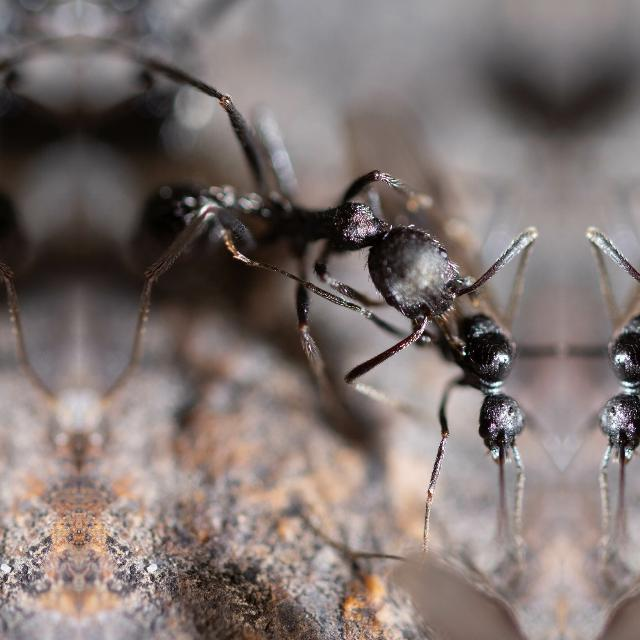Apheanogaster: (89, 83, 552, 431), (342, 200, 562, 486), (560, 200, 640, 484)
